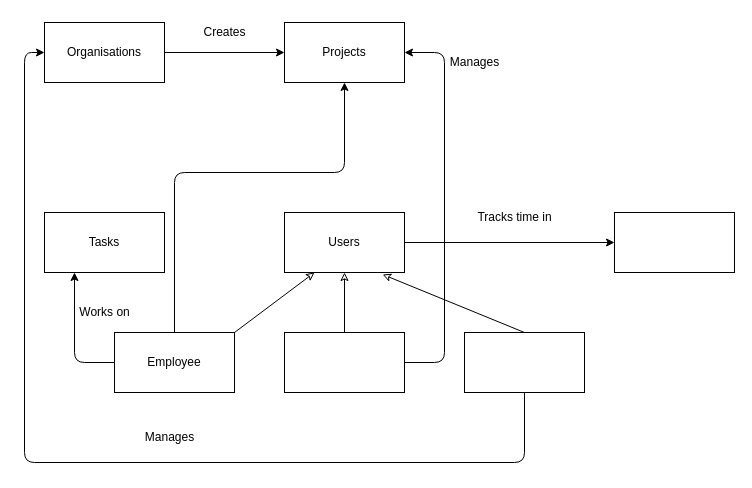
This 752x488 diagram has some shape labels left out. Here are the shapes that lost their labels. From the top down, the centre of each, then its label:
the point at 674,242: TimeLog
the point at 344,362: ProjectManager
the point at 524,362: Admin
